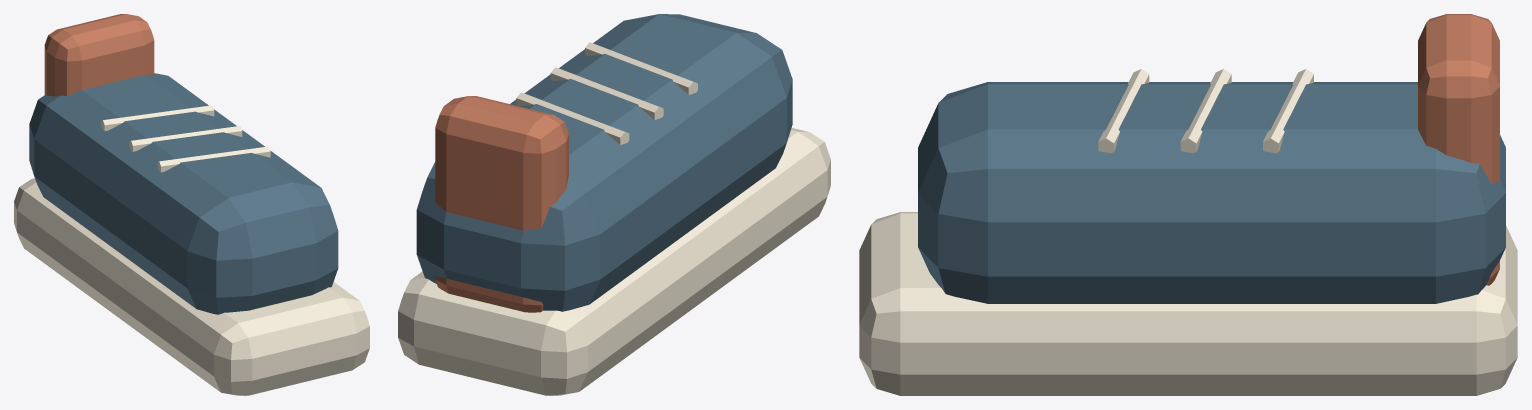
File: sneaker.glb
3 renders of one model, left to right at view 1: azimuth 30°, elevation 25°; view 2: azimuth 150°, elevation 25°; view 3: azimuth 270°, elevation 25°, orthographic. The views are drawn at different scales.
Visible parts, largest first — view 1: sneaker_Mesh; view 2: sneaker_Mesh; view 3: sneaker_Mesh.
Part boxes in pixels (x1,y1,x2,y2): sneaker_Mesh: (14, 14, 369, 395); sneaker_Mesh: (398, 14, 830, 395); sneaker_Mesh: (859, 14, 1517, 395).
Bounding box in the file's own units: 0.11 × 0.15 × 0.28.
